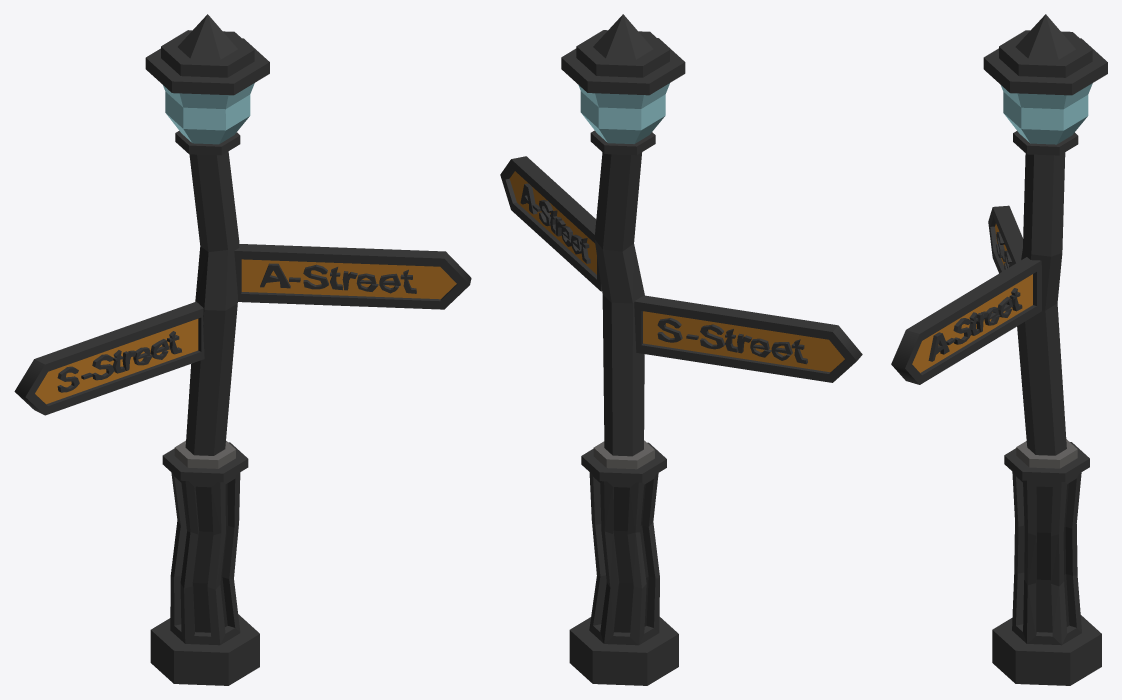
File: Street_light_A_01.FBX
The picture shows the model from 3 angles, left to right: view 1: azimuth 30°, elevation 25°; view 2: azimuth 150°, elevation 25°; view 3: azimuth 270°, elevation 25°; orthographic projection.
Parts seen in each view (by area): view 1: Street_light_A_01; view 2: Street_light_A_01; view 3: Street_light_A_01.
Part boxes in pixels (x1,y1,x2,y2): Street_light_A_01: [14, 14, 471, 685]; Street_light_A_01: [500, 14, 862, 685]; Street_light_A_01: [891, 14, 1107, 685].
Size of the model in its own units: 2.57 by 3.92 by 1.18.
